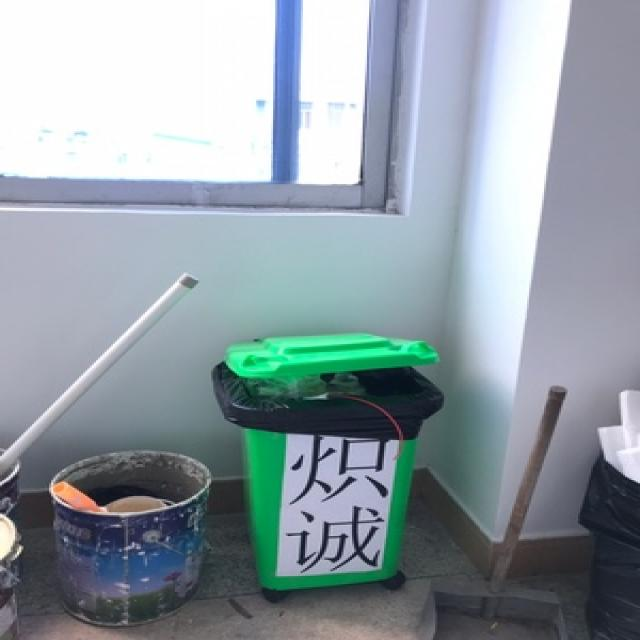ash bin: (215, 333, 444, 600)
